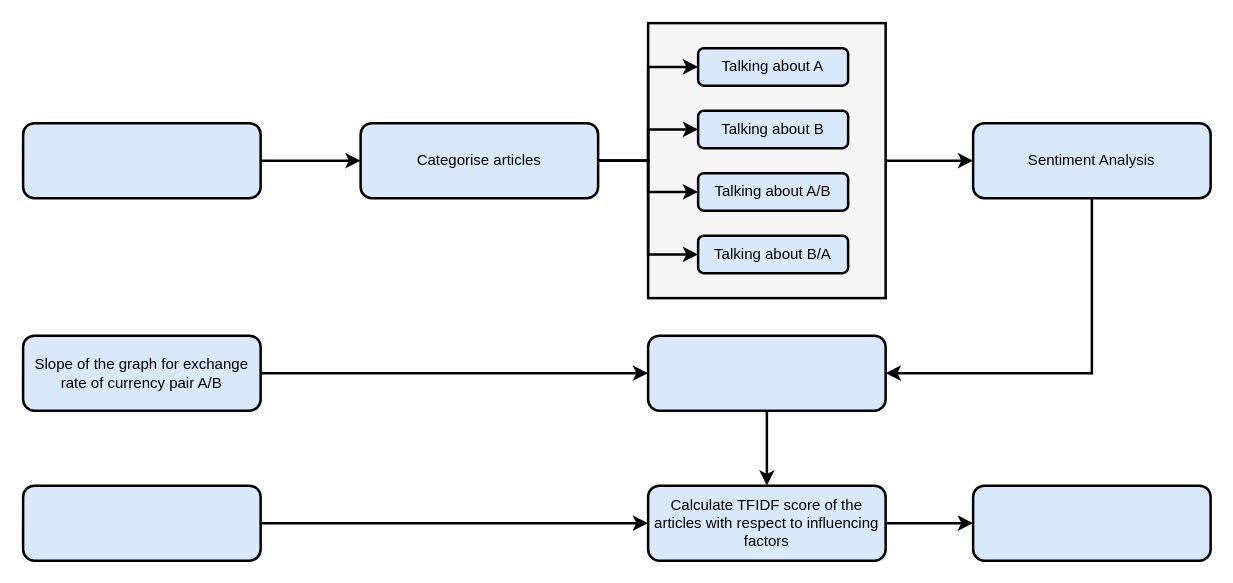
The diagram is 1233 pixels wide and 583 high, and some of its shapes have lost their labels. Each missing label, with the box of its shape:
Filter articles based on slope of A/B: (646, 334, 886, 411)
IDF scores dictionary: (21, 484, 261, 561)
Relevance score: (971, 484, 1211, 561)
Retrieve articles for currency pair A/B: (21, 121, 261, 199)
